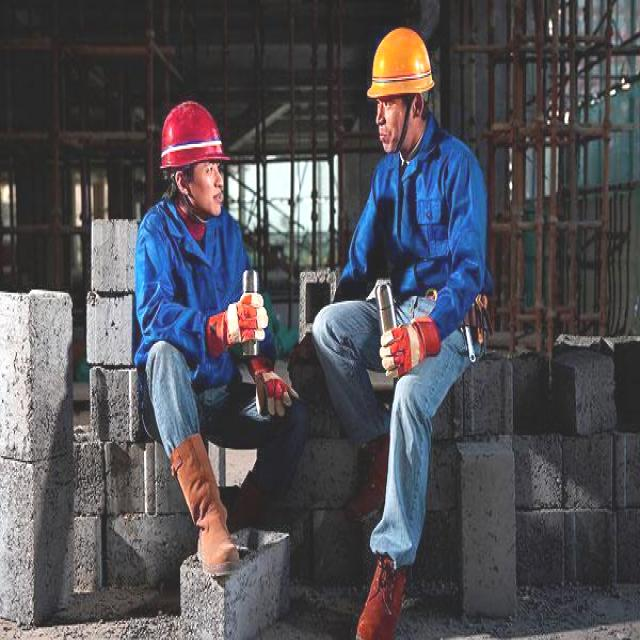face_nomask: (368, 83, 426, 157), (193, 160, 233, 216)
hand_glove: (203, 285, 274, 358), (372, 308, 441, 382), (250, 360, 300, 426)
head_helmet: (366, 27, 434, 98), (160, 101, 229, 168)
person: (326, 32, 487, 637), (152, 100, 290, 574)
shoes: (178, 429, 240, 573), (355, 541, 414, 640)
